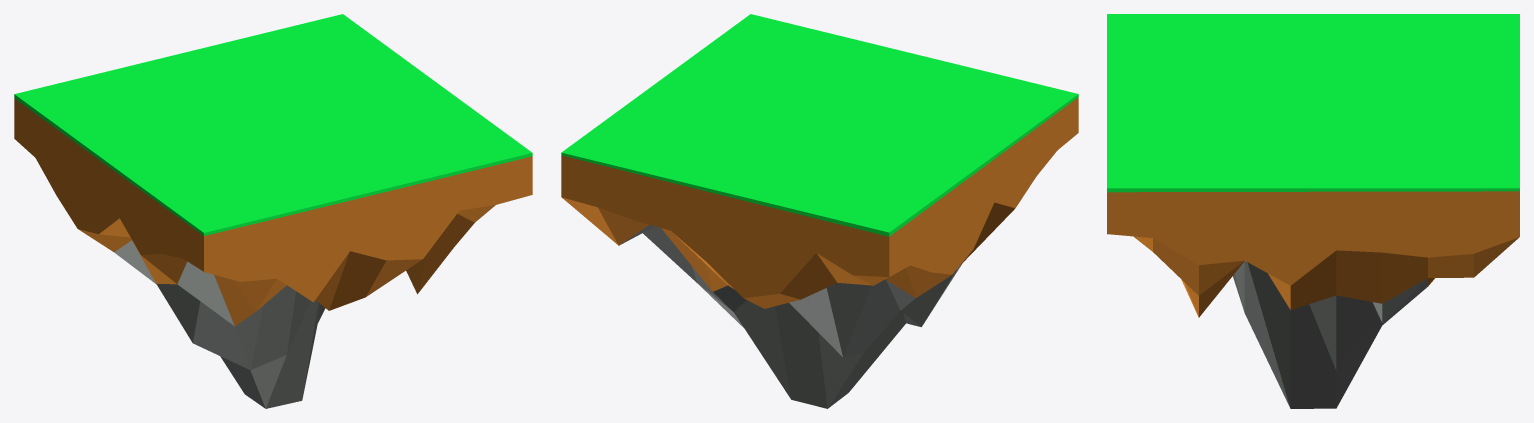
3 views of the same model, side by side, from view 1: azimuth 30°, elevation 25°; view 2: azimuth 150°, elevation 25°; view 3: azimuth 270°, elevation 25° (orthographic). The views are drawn at different scales.
Parts seen in each view (by area): view 1: Cube; view 2: Cube; view 3: Cube.
Part boxes in pixels (<box>): Cube: <box>14,14,532,408</box>; Cube: <box>561,14,1078,408</box>; Cube: <box>1107,14,1519,408</box>.
Size of the model in its own units: 20 by 15.94 by 20.
